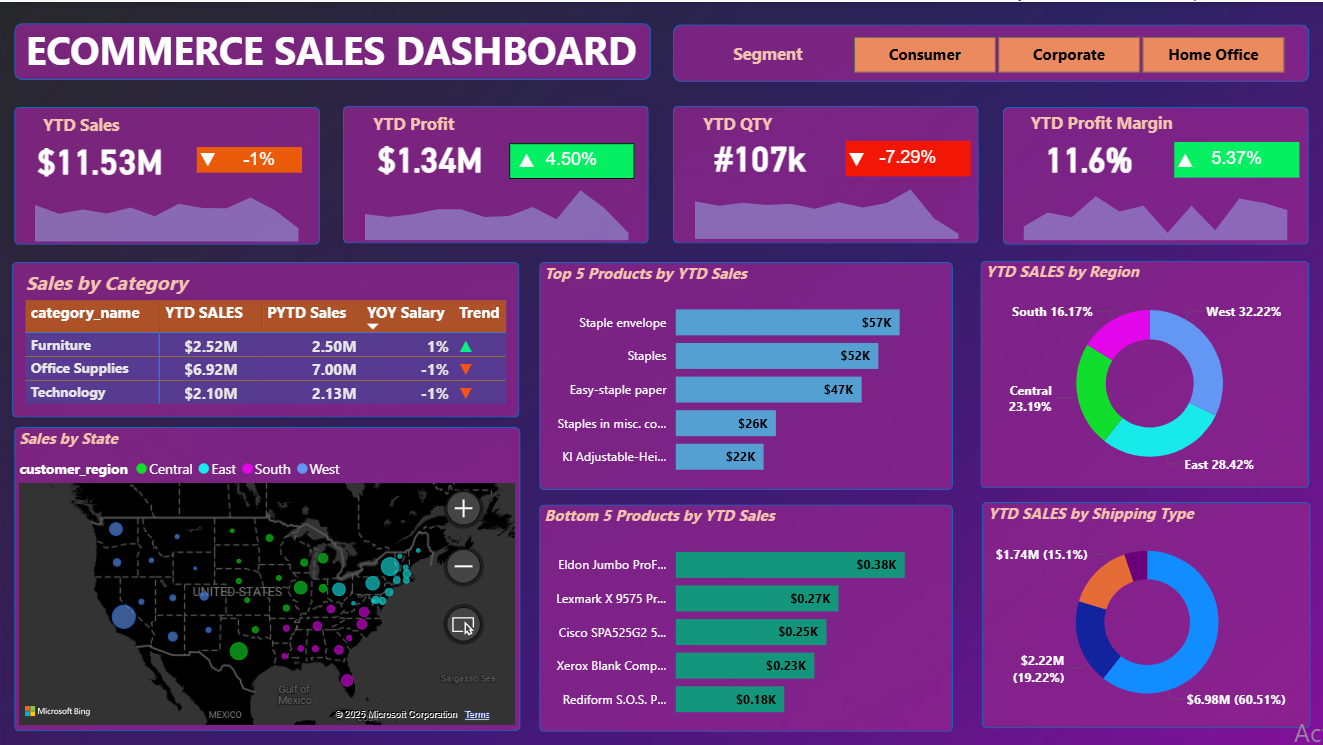

What the dashboard file says about the page in this screenshot:
{"tool":"powerbi","page":{"name":"Page 1","canvas":[1280,720],"ordinal":0},"visuals":[{"type":"shape","box":[15.1,20.6,614.8,54.9],"z":0},{"type":"textbox","box":[21.7,15.7,617.7,67.6],"z":1000},{"type":"shape","box":[15.1,101.5,295,133],"z":2000},{"type":"card","fields":{"Values":["ecommerce_data.YTD SALES"]},"box":[22,118,153.7,67.2],"z":3000},{"type":"shape","box":[192.1,140,101.5,24.7],"z":4000},{"type":"areaChart","fields":{"Category":["Talender.Month"],"Y":["Sum(ecommerce_data.sales_per_order)"]},"box":[22,167.4,282.7,68.6],"z":5000},{"type":"card","fields":{"Values":["ecommerce_data.YOY Salary"]},"box":[192.1,134.5,120.8,37],"z":6000},{"type":"card","fields":{"Values":["ecommerce_data.Select Icon"]},"box":[142.7,135.8,120.8,34.3],"z":7000},{"type":"textbox","box":[38.4,102.9,94.7,34.3],"z":8000},{"type":"shape","box":[333.6,100.6,295,133],"z":9000},{"type":"card","fields":{"Values":["ecommerce_data.YTD Profit"]},"box":[340.4,117,153.7,67.2],"z":10000},{"type":"shape","box":[510.6,139,101.5,24.7],"z":11000},{"type":"areaChart","fields":{"Category":["Talender.Month"],"Y":["Sum(ecommerce_data.profit_per_order)"]},"box":[340.4,166.4,282.7,68.6],"z":12000},{"type":"card","fields":{"Values":["ecommerce_data.YOY Profit"]},"box":[494,135.8,120.8,34.3],"z":13000},{"type":"card","fields":{"Values":["ecommerce_data.Profit Icon"]},"box":[450.1,137.2,120.8,34.3],"z":14000},{"type":"textbox","box":[356.9,101.9,94.7,34.3],"z":15000},{"type":"shape","box":[652,99.6,295,133],"z":16000},{"type":"card","fields":{"Values":["ecommerce_data.YTD Concated QTY"]},"box":[658.9,116.1,153.7,67.2],"z":17000},{"type":"shape","box":[829.1,138,101.5,24.7],"z":18000},{"type":"areaChart","fields":{"Category":["Talender.Month"],"Y":["Sum(ecommerce_data.order_quantity)"]},"box":[658.9,165.5,282.7,68.6],"z":19000},{"type":"card","fields":{"Values":["ecommerce_data.YOY Qty"]},"box":[817.8,134.5,120.8,34.3],"z":20000},{"type":"card","fields":{"Values":["ecommerce_data.QTY Icon"]},"box":[768.6,136.2,120.8,34.3],"z":21000},{"type":"textbox","box":[675.4,101,94.7,34.3],"z":22000},{"type":"shape","box":[969.4,100.8,295,133],"z":23000},{"type":"card","fields":{"Values":["ecommerce_data.YTD Profit Margin"]},"box":[976.3,117.3,153.7,67.2],"z":24000},{"type":"shape","box":[1146.4,139.2,101.5,24.7],"z":25000},{"type":"areaChart","fields":{"Category":["Talender.Month"],"Y":["ecommerce_data.Profit Margin"]},"box":[976.3,166.7,282.7,68.6],"z":26000},{"type":"card","fields":{"Values":["ecommerce_data.YOY PYTD Profit Margin"]},"box":[1135.2,135.7,120.8,34.3],"z":27000},{"type":"card","fields":{"Values":["ecommerce_data.ICON Profit Margin"]},"box":[1085.9,137.5,120.8,34.3],"z":28000},{"type":"textbox","box":[992.1,100.2,192.1,35.7],"z":29000},{"type":"shape","box":[13.7,251.1,490,150],"z":30000},{"type":"pivotTable","title":"Sales by Category","fields":{"Rows":["ecommerce_data.category_name"],"Values":["ecommerce_data.YTD SALES","ecommerce_data.PYTD Sales","ecommerce_data.YOY Salary","ecommerce_data.Select Icon"]},"box":[22,258,489.9,142.7],"z":31000},{"type":"shape","box":[15.1,410.3,488.5,293.7],"z":32000},{"type":"shape","box":[522.8,251.1,399.3,220],"z":33000},{"type":"shape","box":[522.8,484.4,399.3,219.6],"z":34000},{"type":"barChart","title":"Top 5 Products by YTD Sales","fields":{"Y":["ecommerce_data.YTD SALES"],"Category":["ecommerce_data.product_name"]},"box":[522.8,251.1,399.3,219.6],"z":35000},{"type":"barChart","title":"Bottom 5 Products by YTD Sales","fields":{"Y":["ecommerce_data.YTD SALES"],"Category":["ecommerce_data.product_name"]},"box":[522.8,484.4,399.3,219.6],"z":36000},{"type":"shape","box":[948.3,249.7,317.3,219.6],"z":37000},{"type":"shape","box":[949.5,482.6,317.3,218.4],"z":38000},{"type":"donutChart","title":"YTD SALES by Region","fields":{"Category":["ecommerce_data.customer_region"],"Y":["ecommerce_data.YTD SALES"]},"box":[948.3,249.7,326.9,217.2],"z":39000},{"type":"shape","box":[651.5,21.7,614.1,55.5],"z":40000},{"type":"map","title":"Sales by State","fields":{"Y":["us_state_long_lat_codes.latitude"],"X":["us_state_long_lat_codes.longitude"],"Series":["ecommerce_data.customer_region"],"Size":["ecommerce_data.YTD SALES"]},"box":[15.1,410.3,488.5,293.7],"z":41000},{"type":"donutChart","title":"YTD SALES by Shipping Type","fields":{"Y":["ecommerce_data.YTD SALES"],"Category":["ecommerce_data.shipping_type"]},"box":[950.7,482.6,317.3,212.3],"z":42000},{"type":"slicer","fields":{"Values":["ecommerce_data.customer_segment"]},"box":[799.9,26.5,465.7,48.3],"z":43000},{"type":"textbox","box":[704.6,33.8,95.3,33.8],"z":44000}]}

Visuals, with their boxes in screenshot pixels (x1, y1, x2, y2), scaled from the page's 1280x720 canvas onto the 1323x745 screenshot:
shape: (x1=16, y1=21, x2=651, y2=78)
textbox: (x1=22, y1=16, x2=661, y2=86)
shape: (x1=16, y1=105, x2=321, y2=243)
card - ecommerce_data.YTD SALES: (x1=23, y1=122, x2=182, y2=192)
shape: (x1=199, y1=145, x2=303, y2=170)
areaChart - Talender.Month x Sum(ecommerce_data.sales_per_order): (x1=23, y1=173, x2=315, y2=244)
card - ecommerce_data.YOY Salary: (x1=199, y1=139, x2=323, y2=177)
card - ecommerce_data.Select Icon: (x1=147, y1=141, x2=272, y2=176)
textbox: (x1=40, y1=106, x2=138, y2=142)
shape: (x1=345, y1=104, x2=650, y2=242)
card - ecommerce_data.YTD Profit: (x1=352, y1=121, x2=511, y2=191)
shape: (x1=528, y1=144, x2=633, y2=169)
areaChart - Talender.Month x Sum(ecommerce_data.profit_per_order): (x1=352, y1=172, x2=644, y2=243)
card - ecommerce_data.YOY Profit: (x1=511, y1=141, x2=635, y2=176)
card - ecommerce_data.Profit Icon: (x1=465, y1=142, x2=590, y2=177)
textbox: (x1=369, y1=105, x2=467, y2=141)
shape: (x1=674, y1=103, x2=979, y2=241)
card - ecommerce_data.YTD Concated QTY: (x1=681, y1=120, x2=840, y2=190)
shape: (x1=857, y1=143, x2=962, y2=168)
areaChart - Talender.Month x Sum(ecommerce_data.order_quantity): (x1=681, y1=171, x2=973, y2=242)
card - ecommerce_data.YOY Qty: (x1=845, y1=139, x2=970, y2=175)
card - ecommerce_data.QTY Icon: (x1=794, y1=141, x2=919, y2=176)
textbox: (x1=698, y1=105, x2=796, y2=140)
shape: (x1=1002, y1=104, x2=1307, y2=242)
card - ecommerce_data.YTD Profit Margin: (x1=1009, y1=121, x2=1168, y2=191)
shape: (x1=1185, y1=144, x2=1290, y2=170)
areaChart - Talender.Month x ecommerce_data.Profit Margin: (x1=1009, y1=172, x2=1301, y2=243)
card - ecommerce_data.YOY PYTD Profit Margin: (x1=1173, y1=140, x2=1298, y2=176)
card - ecommerce_data.ICON Profit Margin: (x1=1122, y1=142, x2=1247, y2=178)
textbox: (x1=1025, y1=104, x2=1224, y2=141)
shape: (x1=14, y1=260, x2=521, y2=415)
"Sales by Category" pivotTable: (x1=23, y1=267, x2=529, y2=415)
shape: (x1=16, y1=425, x2=521, y2=728)
shape: (x1=540, y1=260, x2=953, y2=487)
shape: (x1=540, y1=501, x2=953, y2=728)
"Top 5 Products by YTD Sales" barChart: (x1=540, y1=260, x2=953, y2=487)
"Bottom 5 Products by YTD Sales" barChart: (x1=540, y1=501, x2=953, y2=728)
shape: (x1=980, y1=258, x2=1308, y2=486)
shape: (x1=981, y1=499, x2=1309, y2=725)
"YTD SALES by Region" donutChart: (x1=980, y1=258, x2=1318, y2=483)
shape: (x1=673, y1=22, x2=1308, y2=80)
"Sales by State" map: (x1=16, y1=425, x2=521, y2=728)
"YTD SALES by Shipping Type" donutChart: (x1=983, y1=499, x2=1311, y2=719)
slicer - ecommerce_data.customer_segment: (x1=827, y1=27, x2=1308, y2=77)
textbox: (x1=728, y1=35, x2=827, y2=70)
